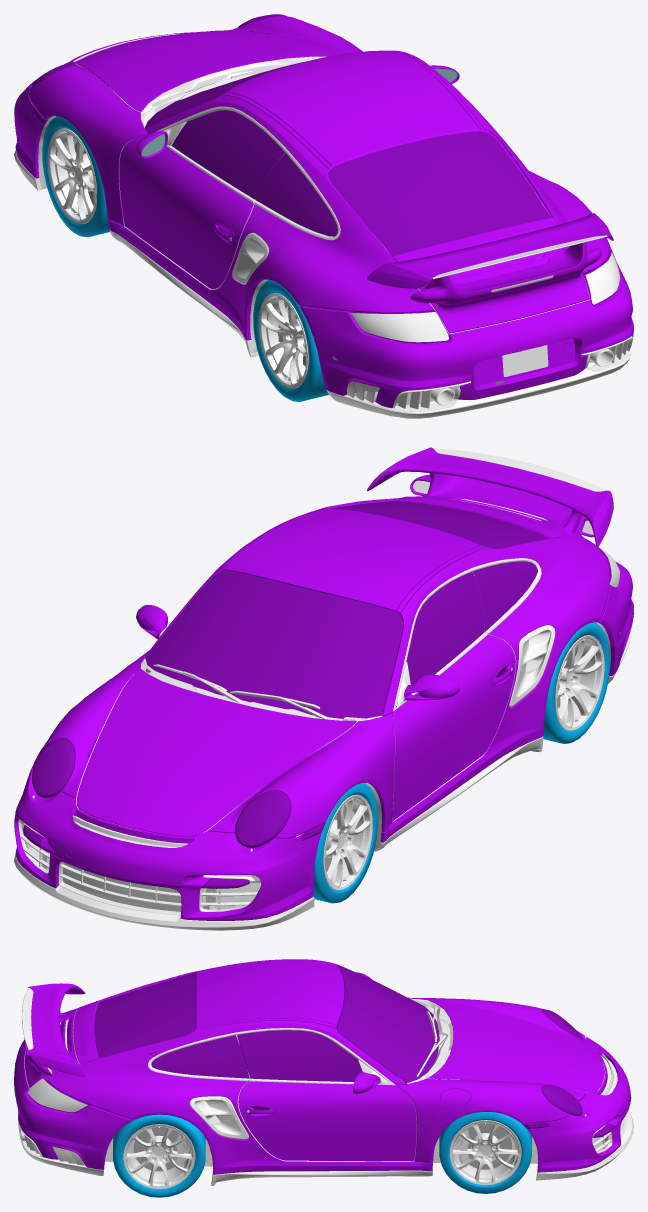
3 views of the same model, one above another, from view 1: azimuth 30°, elevation 25°; view 2: azimuth 150°, elevation 25°; view 3: azimuth 270°, elevation 25° (orthographic). The views are drawn at different scales.
Visible parts, largest first — view 1: gt2:Mesh, rim:Mesh, wheel:Mesh; view 2: gt2:Mesh, rim:Mesh, wheel:Mesh; view 3: gt2:Mesh, Mesh1_phongE4_0, Mesh_wheel1_0, Mesh1_phongE5_0, Mesh2_lambert1_0.
Boxes of the visible parts, x1=… form: gt2:Mesh: x1=14, y1=14, x2=633, y2=418; rim:Mesh: x1=47, y1=128, x2=308, y2=388; wheel:Mesh: x1=42, y1=116, x2=328, y2=401; gt2:Mesh: x1=14, y1=447, x2=633, y2=930; rim:Mesh: x1=323, y1=635, x2=604, y2=890; wheel:Mesh: x1=313, y1=622, x2=609, y2=903; gt2:Mesh: x1=14, y1=959, x2=633, y2=1185; Mesh1_phongE4_0: x1=123, y1=1120, x2=521, y2=1188; Mesh_wheel1_0: x1=113, y1=1112, x2=531, y2=1197; Mesh1_phongE5_0: x1=133, y1=1124, x2=512, y2=1171; Mesh2_lambert1_0: x1=174, y1=1129, x2=469, y2=1171.
Bounding box in the file's own units: 1.96 × 1.27 × 4.47.
